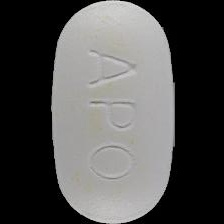54868-4938: (0, 0, 224, 224)
